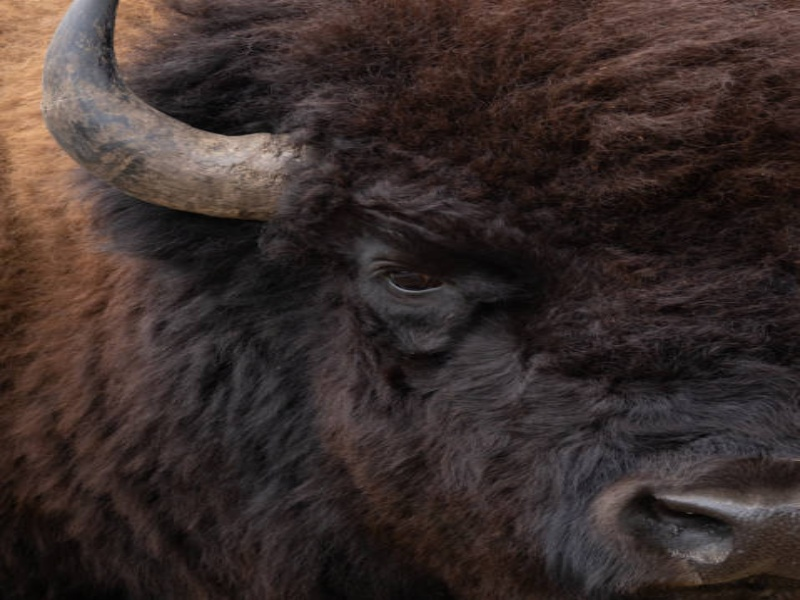buffalo: (25, 20, 790, 581)
